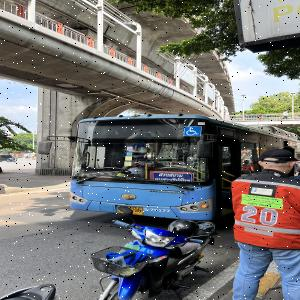BMTA-bus: (70, 115, 283, 225)
Bus Line Number: (148, 124, 184, 137)
Bus Side Number: (144, 207, 171, 213)
Destination Sign: (154, 172, 192, 182)
